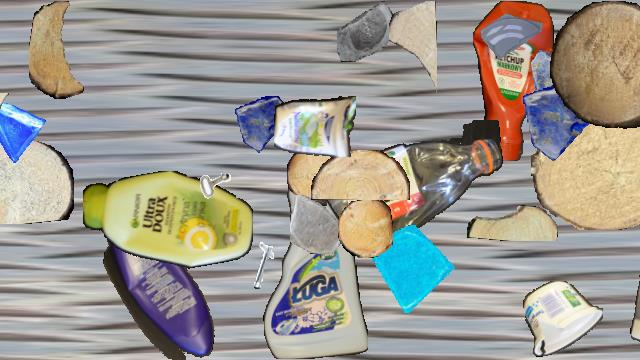glass: (371, 225, 459, 313), (521, 79, 605, 163), (481, 1, 543, 63), (337, 1, 397, 61), (290, 195, 348, 253), (0, 94, 46, 164), (531, 46, 587, 102), (235, 96, 291, 152)
metal: (179, 143, 239, 203), (239, 242, 295, 298)
plastic: (325, 120, 503, 238), (263, 169, 367, 359), (100, 217, 220, 359), (83, 171, 253, 271), (473, 1, 553, 161), (523, 281, 603, 357), (274, 92, 356, 156), (629, 206, 640, 346)
wood: (531, 109, 640, 229), (550, 1, 640, 129), (0, 136, 74, 224), (29, 1, 89, 99), (311, 150, 409, 200), (389, 1, 437, 97), (467, 205, 557, 241), (338, 200, 392, 258), (287, 146, 337, 206), (0, 93, 9, 147)
